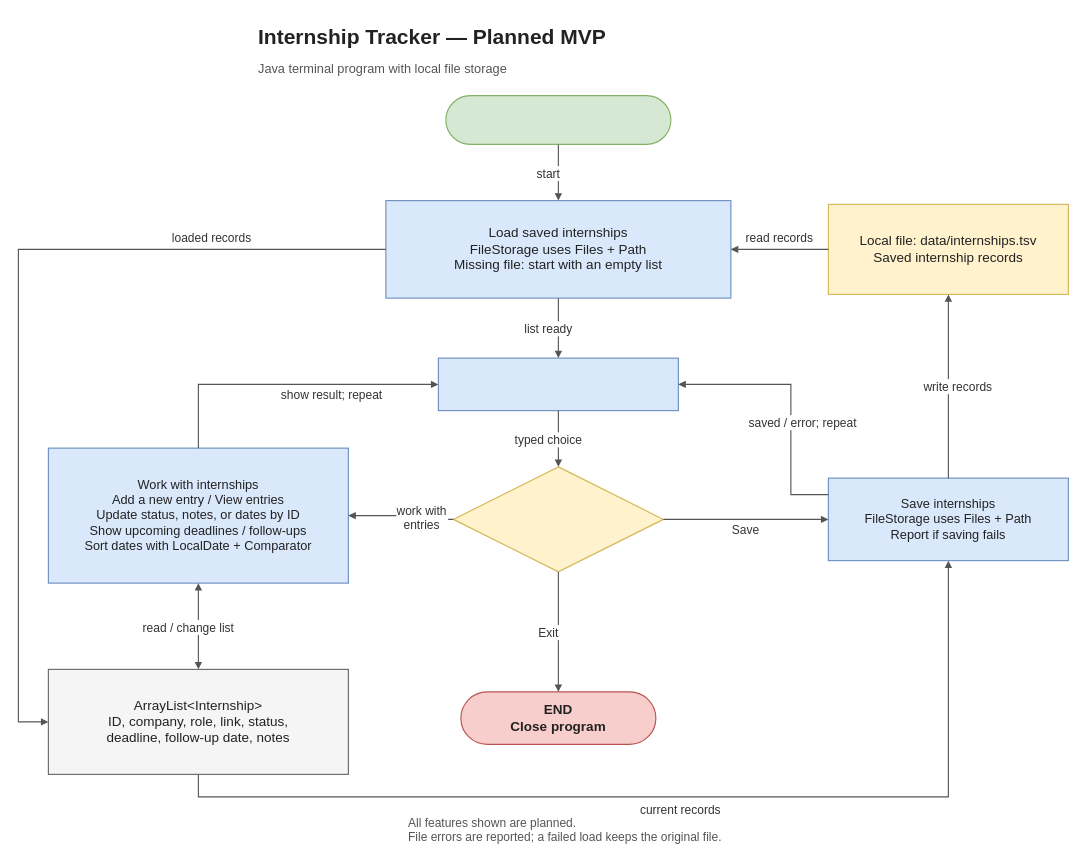
Some shapes in this 1082 by 858 pixel diagram are drawn without their labels. Here are the shapes that lost their labels. From the top down, the box of each, then its label:
(445, 95, 671, 145): START Main.main()
(437, 357, 679, 411): Show menu Read input with Scanner
(452, 466, 664, 572): Choose an option
